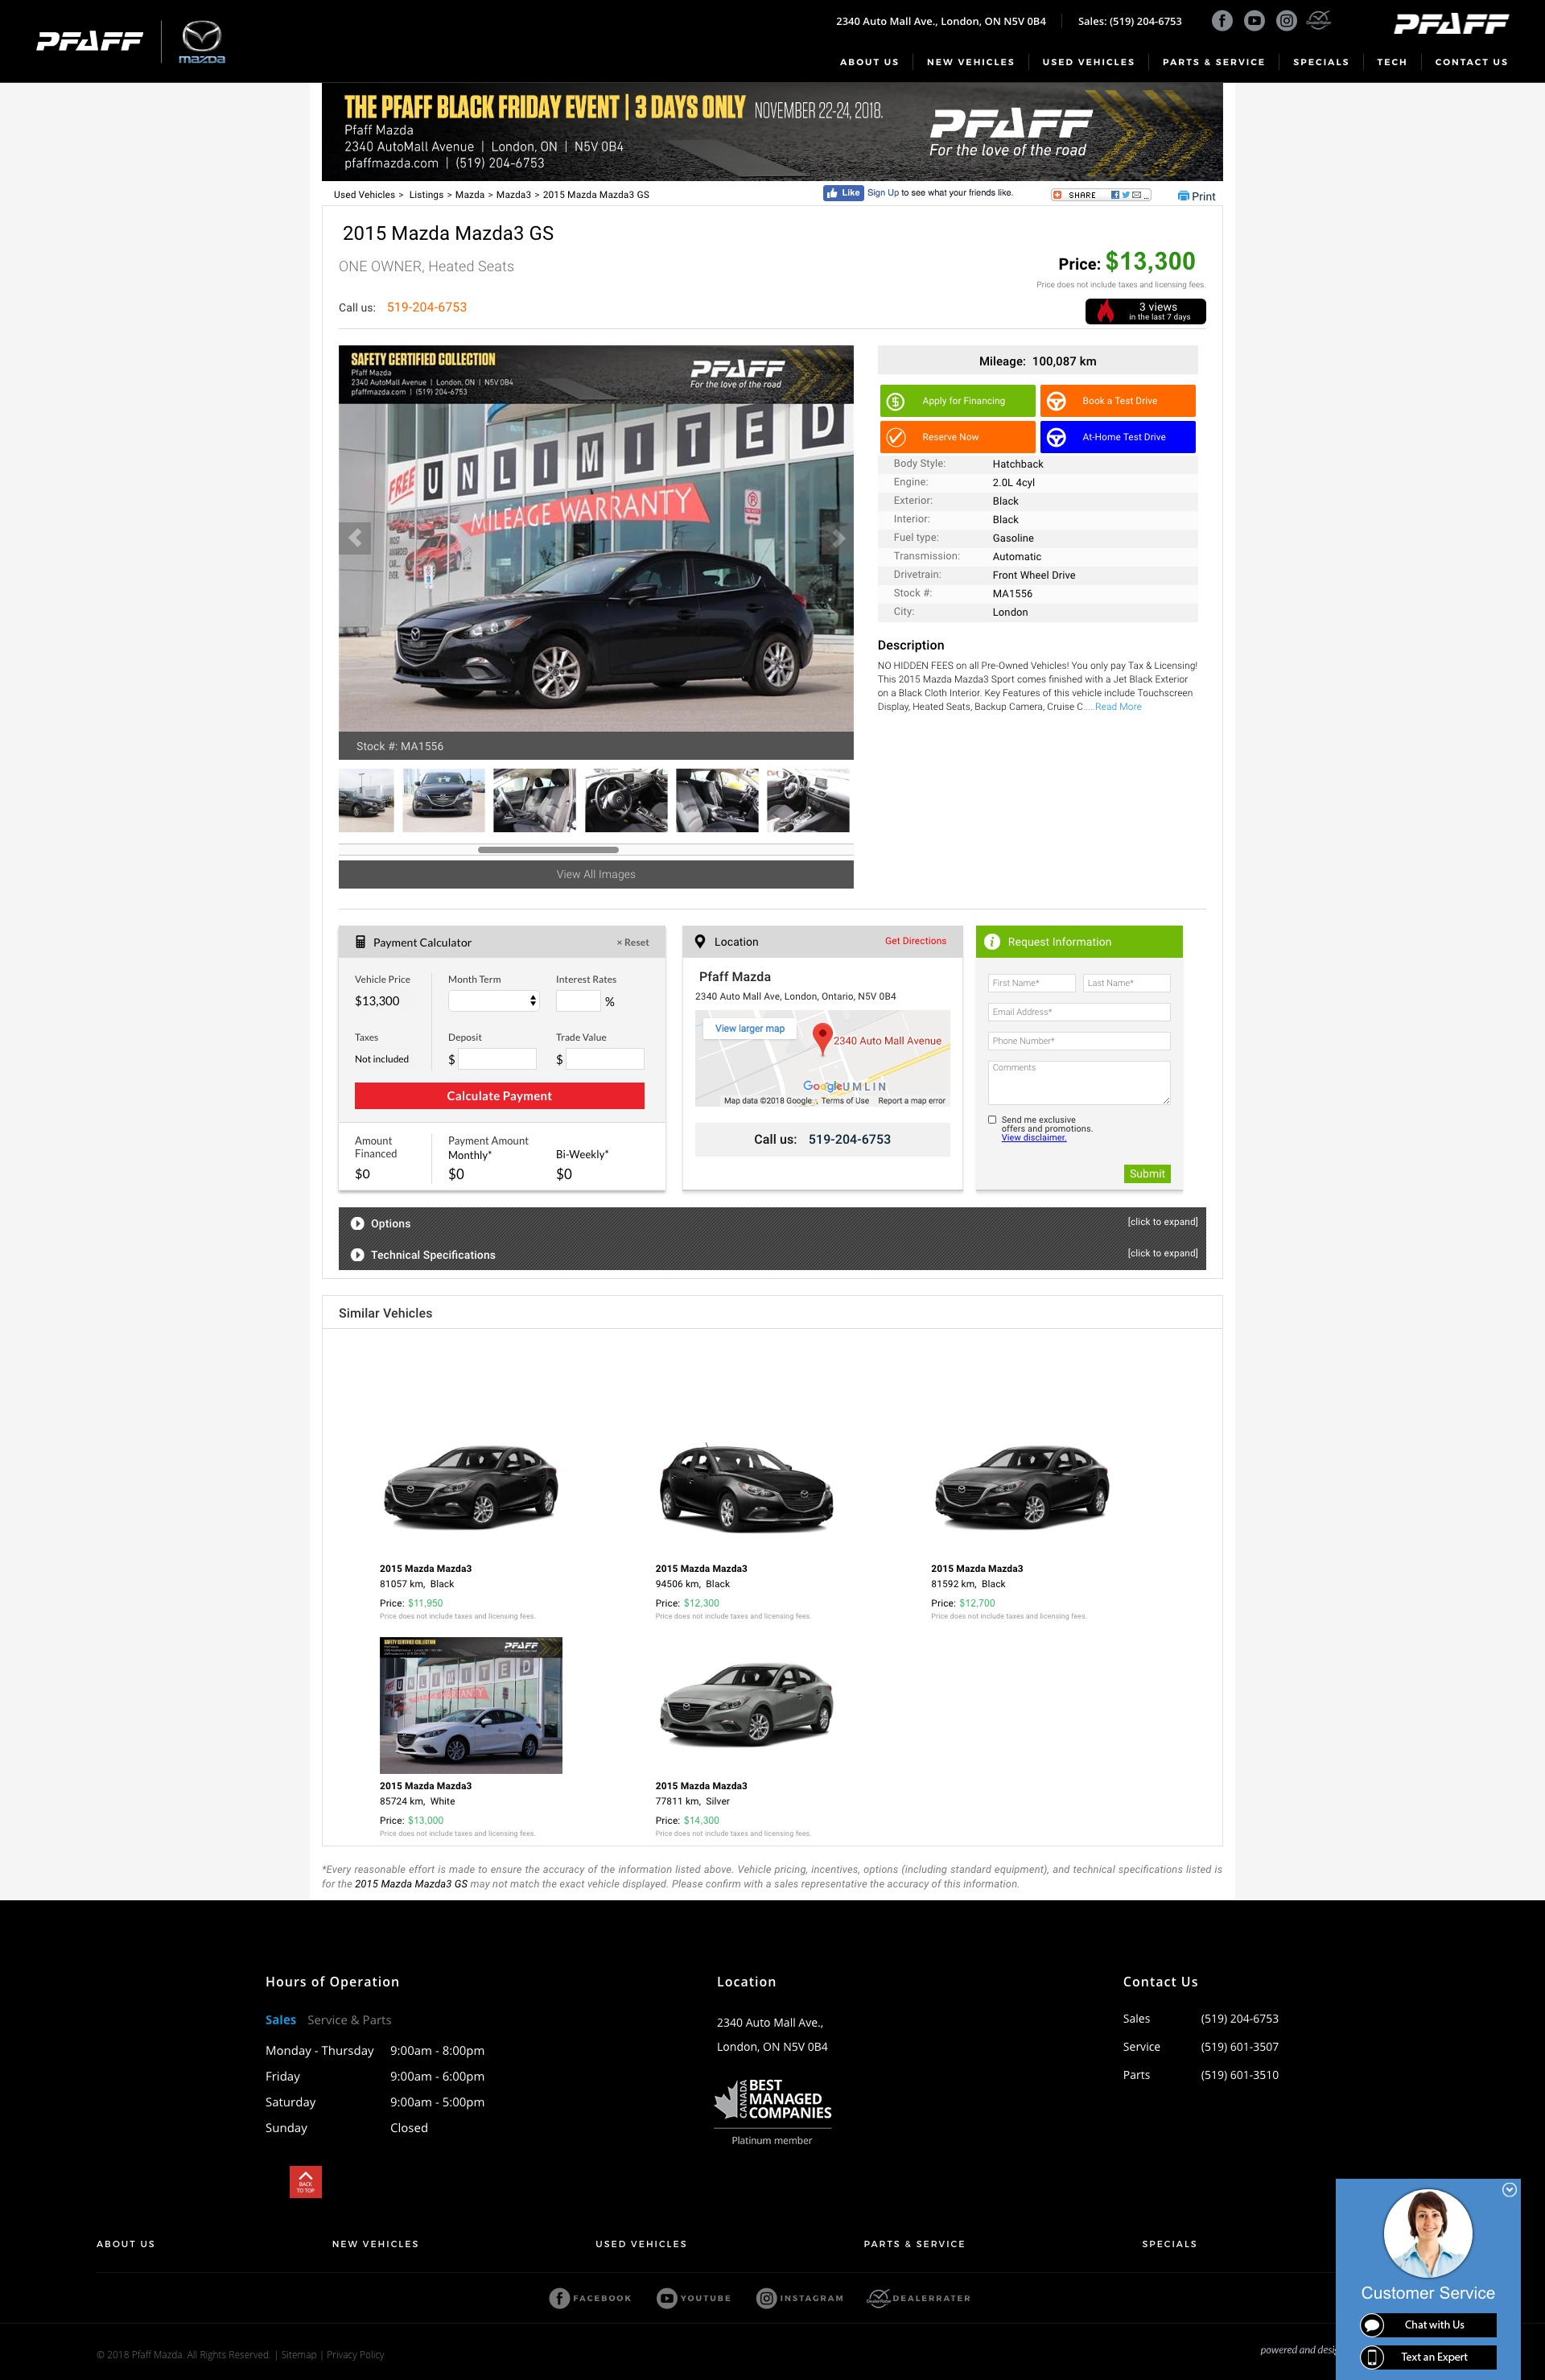car: (832, 529, 846, 548)
